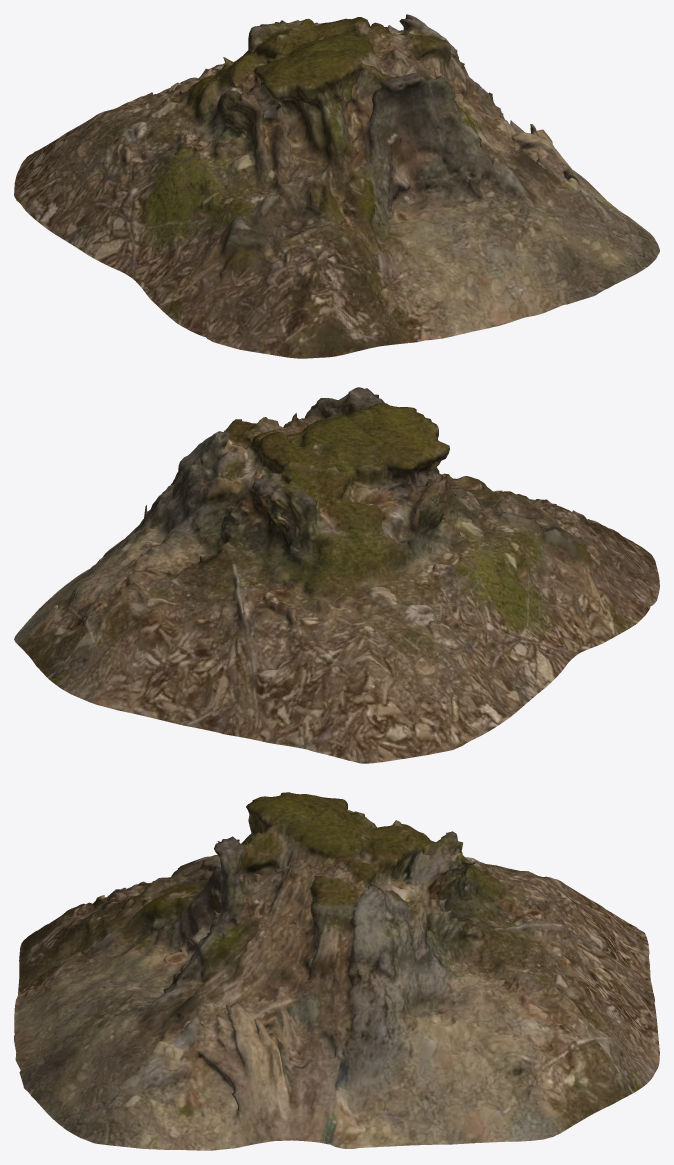
The model's file is tree_stump_01.glb.
3 views of the same model, one above another, from view 1: azimuth 30°, elevation 25°; view 2: azimuth 150°, elevation 25°; view 3: azimuth 270°, elevation 25° (orthographic). The views are drawn at different scales.
Visible parts, largest first — view 1: tree_stump_01; view 2: tree_stump_01; view 3: tree_stump_01.
Part boxes in pixels (box(x1,y1,x2,y2)): tree_stump_01: box(14, 14, 659, 358); tree_stump_01: box(14, 387, 659, 763); tree_stump_01: box(14, 792, 659, 1150).
Size of the model in its own units: 1.43 by 0.5725 by 1.59.
1 material, 1 textured.
